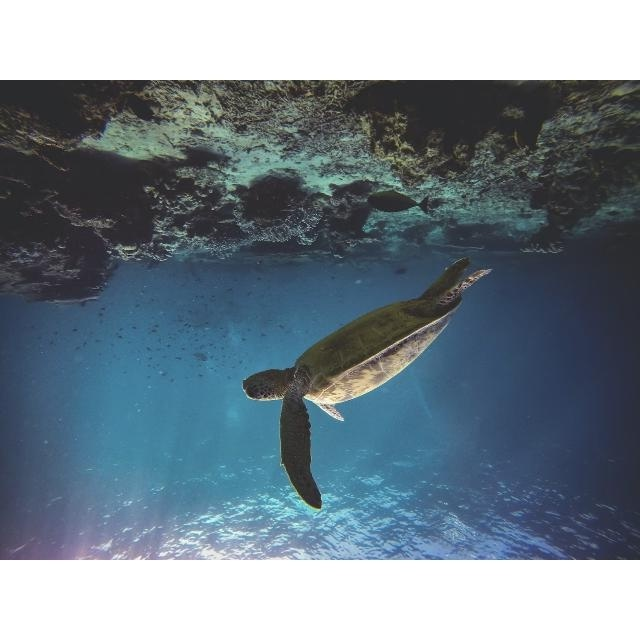turtle: (242, 256, 494, 509)
